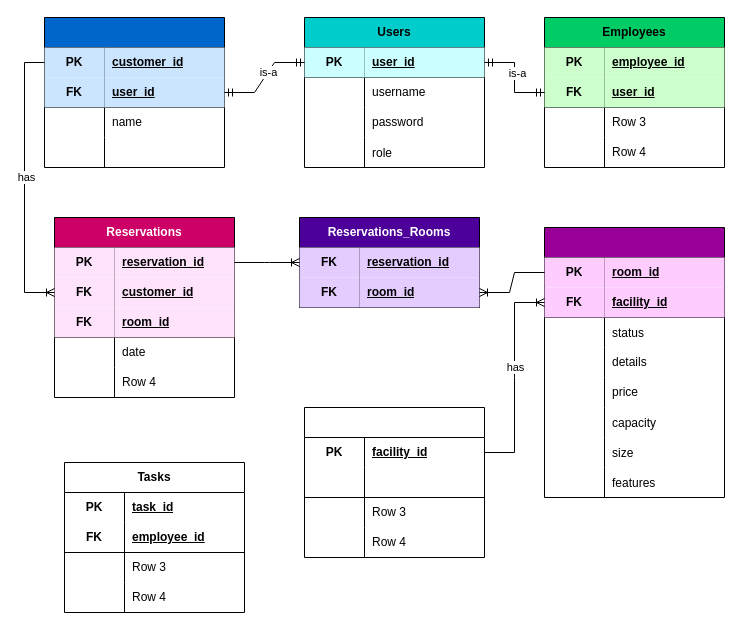
The diagram is 742 pixels wide and 630 high, and some of its shapes have lost their labels. Here are the shapes that lost their labels. From the top down, the box of each, then its label:
(44, 16, 224, 168): Customers
(544, 226, 724, 498): Rooms
(304, 406, 484, 558): Facilities
